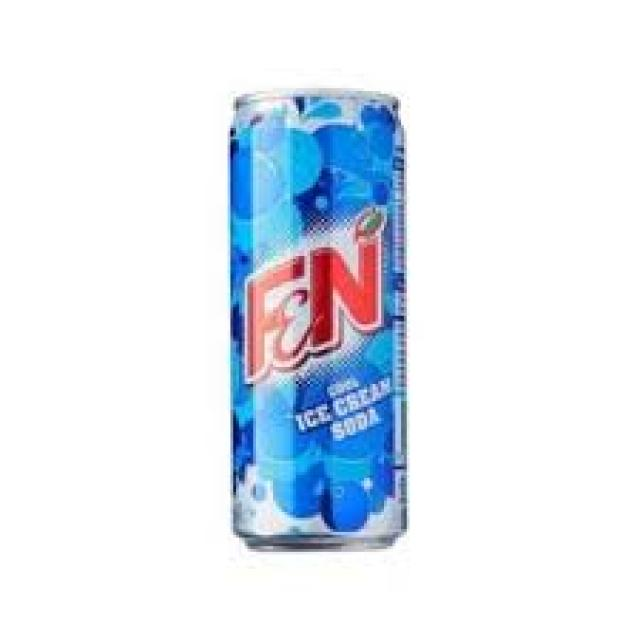Cans: (225, 77, 418, 557)
